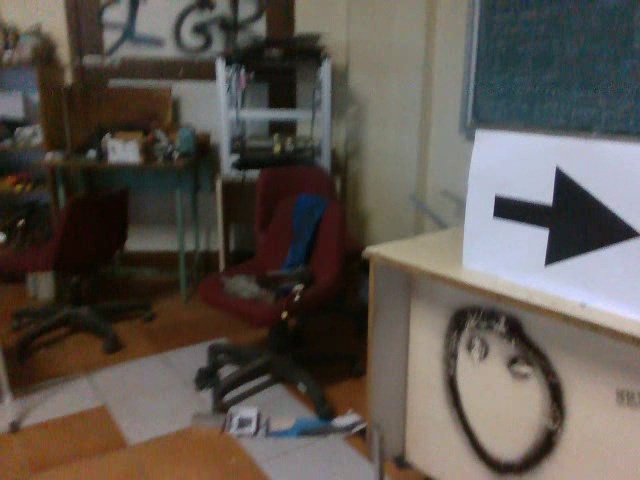Right: (482, 160, 640, 274)
